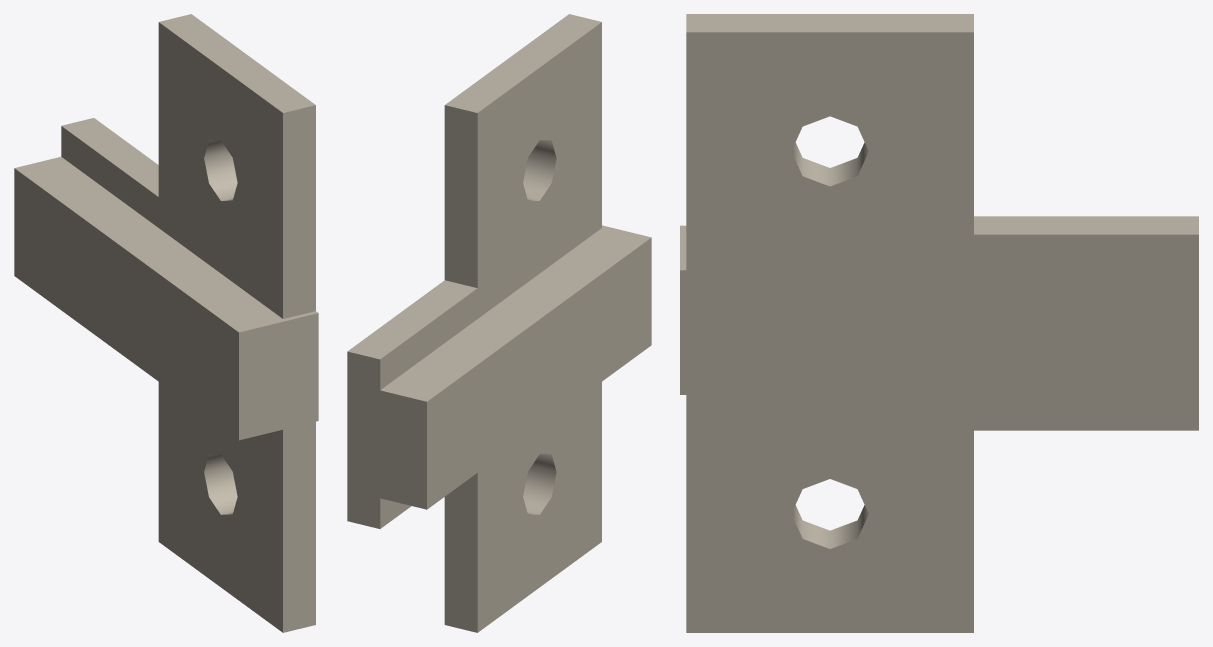
3 views of the same model, side by side, from view 1: azimuth 30°, elevation 25°; view 2: azimuth 150°, elevation 25°; view 3: azimuth 270°, elevation 25° (orthographic). The views are drawn at different scales.
Parts seen in each view (by area): view 1: bau0020504027; view 2: bau0020504027; view 3: bau0020504027.
Boxes of the visible parts, x1,y1,x2,y2 form: bau0020504027: (14,14,318,632); bau0020504027: (347,14,651,632); bau0020504027: (680,14,1198,632).
Bounding box in the file's own units: 8.5 × 53 × 41.5.
